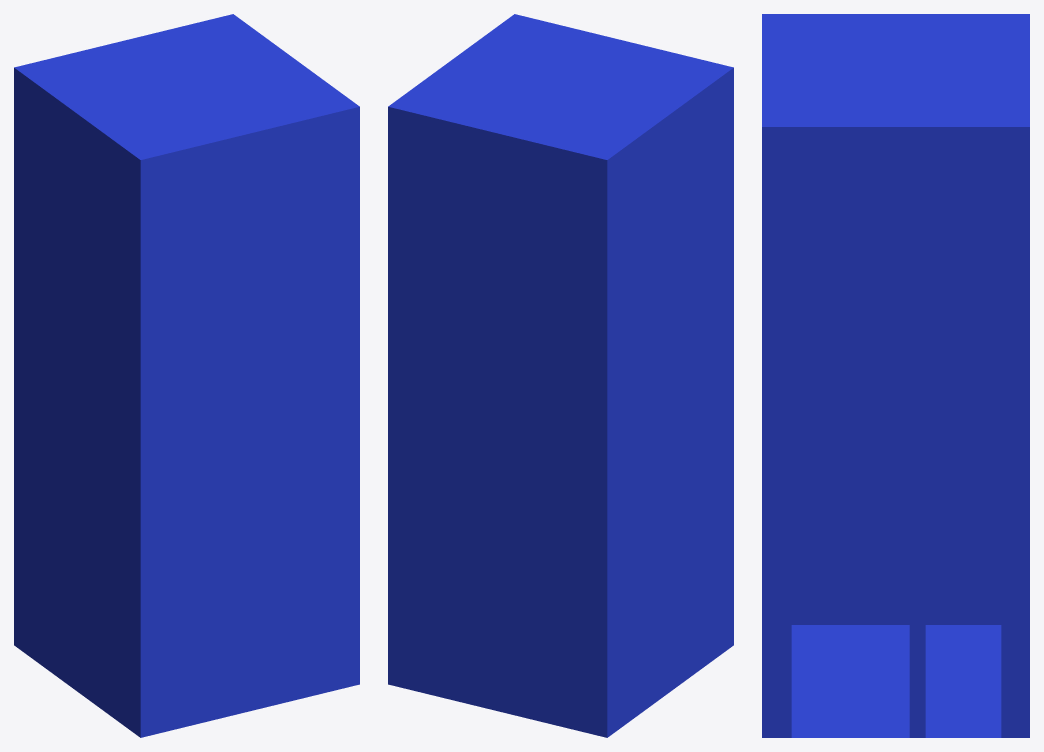
The picture shows the model from 3 angles, left to right: view 1: azimuth 30°, elevation 25°; view 2: azimuth 150°, elevation 25°; view 3: azimuth 270°, elevation 25°; orthographic projection. The views are drawn at different scales.
Parts seen in each view (by area): view 1: Cube.006; view 2: Cube.006; view 3: Cube.006.
Part boxes in pixels (x1,y1,x2,y2): Cube.006: (14,14,359,737); Cube.006: (388,14,733,737); Cube.006: (762,14,1029,737).
Bounding box in the file's own units: 2 × 5.03 × 2.
